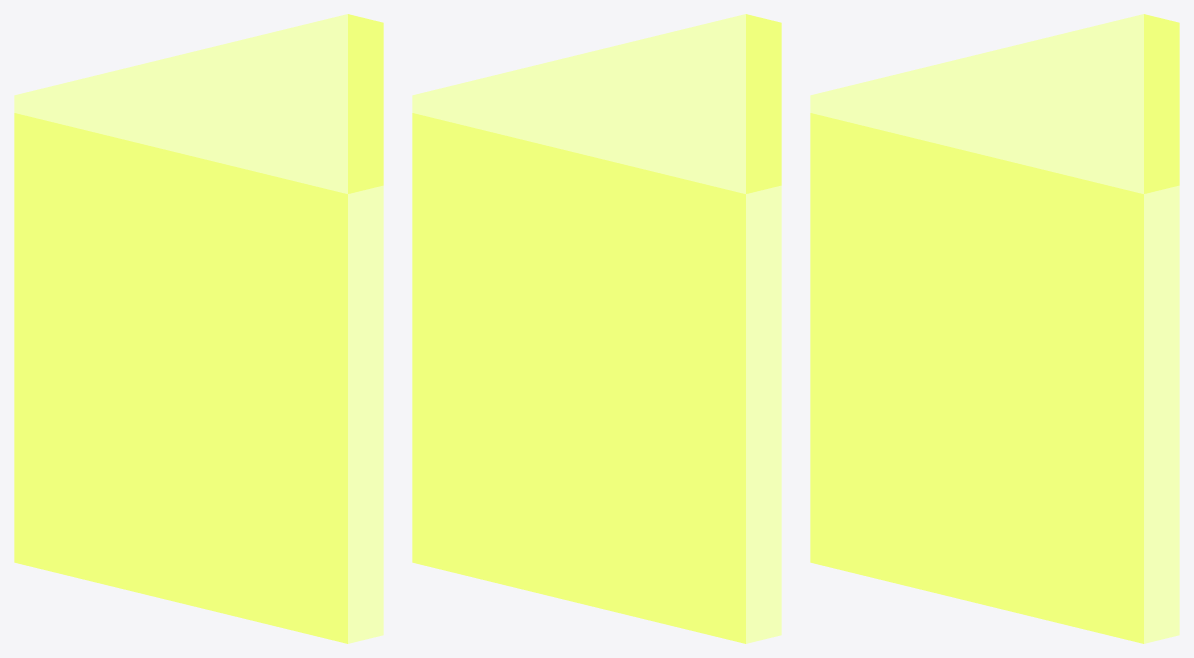
Rendered from Path 4.fbx.
3 renders of one model, left to right at view 1: azimuth 30°, elevation 25°; view 2: azimuth 150°, elevation 25°; view 3: azimuth 270°, elevation 25°, orthographic.
Parts seen in each view (by area): view 1: Path_1__fbx; view 2: Path_1__fbx; view 3: Path_1__fbx.
Boxes of the visible parts, bbox=[...] form: Path_1__fbx: bbox=[14, 14, 383, 643]; Path_1__fbx: bbox=[412, 14, 781, 643]; Path_1__fbx: bbox=[810, 14, 1179, 643].
Bounding box in the file's own units: 61.34 × 71.38 × 53.12.
